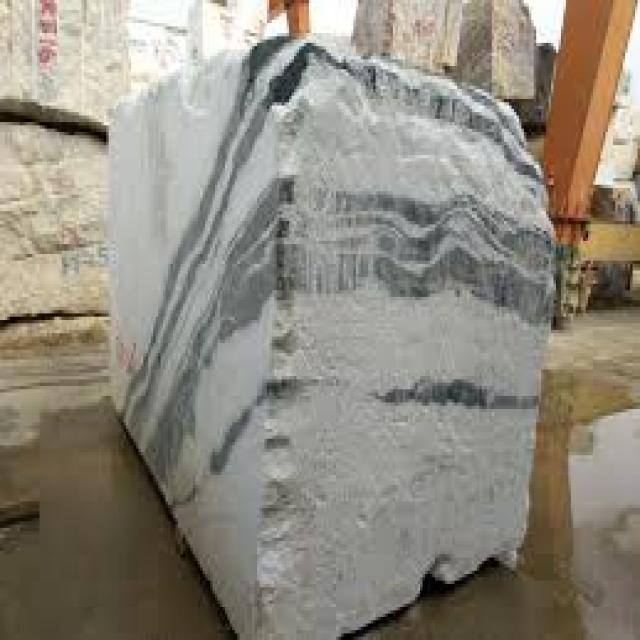Metamorphic: (94, 33, 546, 637)
